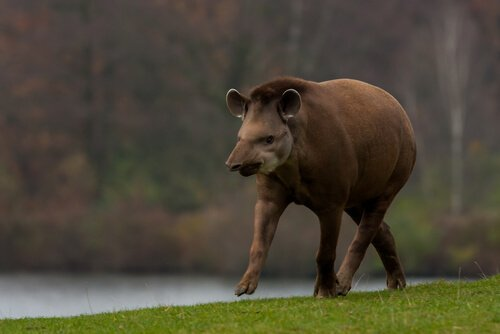Anta: (218, 71, 429, 302)
